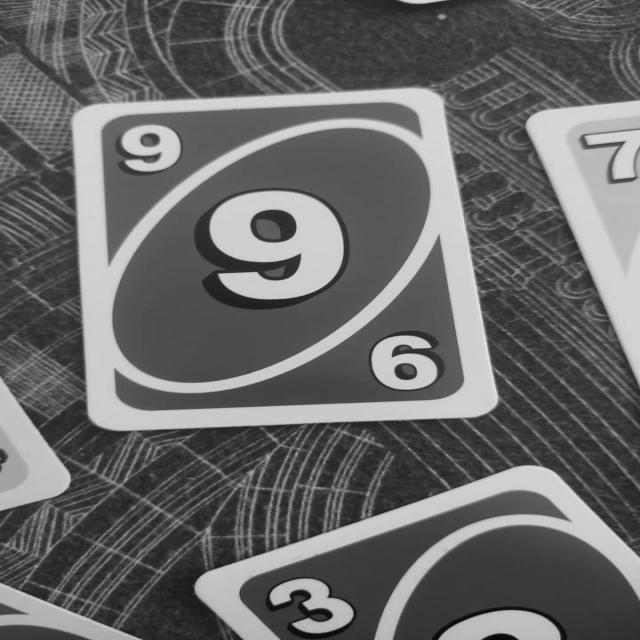card_3: (193, 464, 638, 638)
card_7: (533, 103, 640, 367)
card_9: (70, 87, 499, 431)
